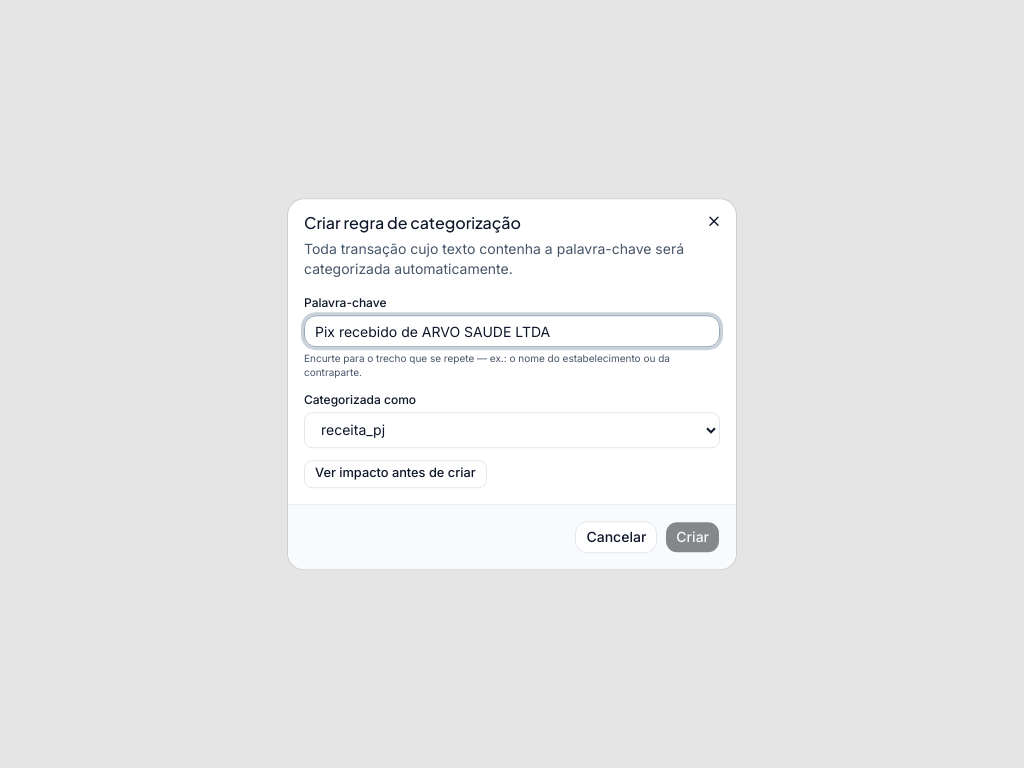
CreateRuleDialog · preview + create flow (A12 P4) › hint de match único aparece com keyword longa (pré-fill não-editado)
Click the button with test id "rule-preview-button": (395, 474) [304,460,487,488]
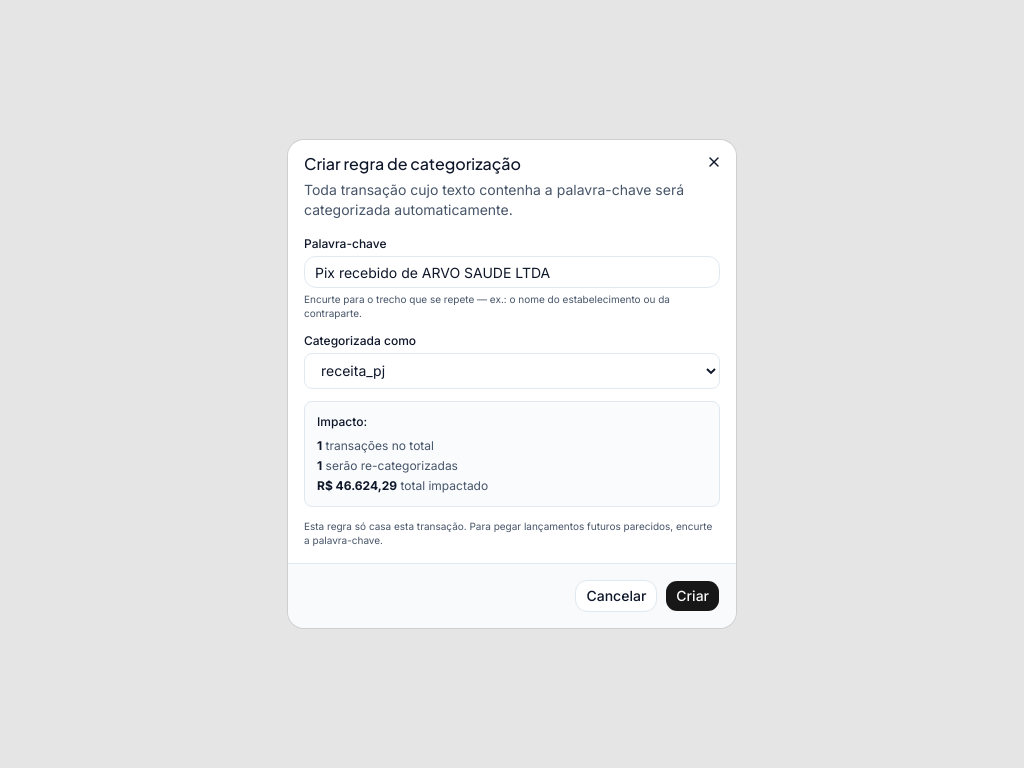
Expected: the text with test id "rule-single-match-hint" is shown, [304,518,720,547]
